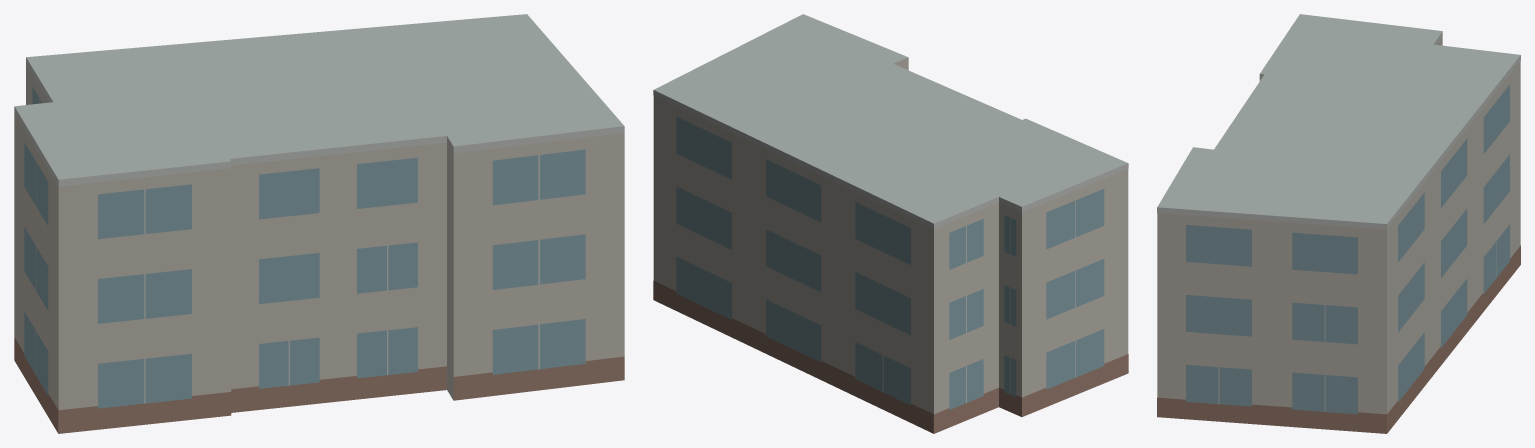
The model's file is survey-upis-32774541.glb.
3 views of the same model, side by side, from view 1: azimuth 30°, elevation 25°; view 2: azimuth 150°, elevation 25°; view 3: azimuth 270°, elevation 25° (orthographic). The views are drawn at different scales.
Parts seen in each view (by area): view 1: survey-upis-32774541.tmp; view 2: survey-upis-32774541.tmp; view 3: survey-upis-32774541.tmp.
Part boxes in pixels (<box>): survey-upis-32774541.tmp: <box>14,14,624,433</box>; survey-upis-32774541.tmp: <box>653,14,1128,433</box>; survey-upis-32774541.tmp: <box>1157,14,1520,433</box>.
Size of the model in its own units: 19.65 by 9.15 by 14.38.
